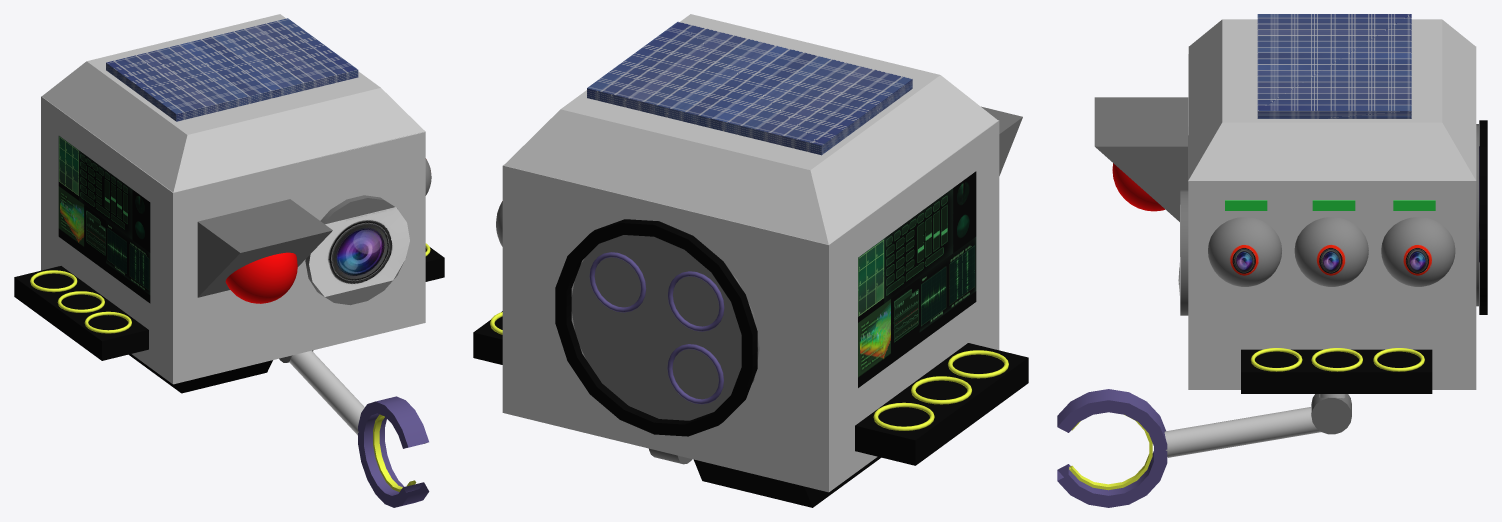
File: Player.FBX
3 views of the same model, side by side, from view 1: azimuth 30°, elevation 25°; view 2: azimuth 150°, elevation 25°; view 3: azimuth 270°, elevation 25° (orthographic). The views are drawn at different scales.
Parts seen in each view (by area): view 1: Box001, Box002, Box011, Plane002, Box004, Plane001, Box006, Tube002, Sphere001, Cylinder007, Cylinder008, Box003 (+2 smaller); view 2: Box001, Box002, Box011, Cylinder003, Plane002, Tube001, Box006, Box003, Box005, Torus002, Torus003, Torus004 (+4 smaller); view 3: Box001, Box002, Box011, Box004, Box005, Tube002, Sphere003, Sphere002, Sphere004, Cylinder007, Tube001, Cylinder006 (+8 smaller).
Boxes of the visible parts, x1=… form: Box001: x1=41, y1=96, x2=425, y2=384; Box002: x1=42, y1=14, x2=425, y2=192; Box011: x1=106, y1=18, x2=358, y2=121; Plane002: x1=58, y1=136, x2=150, y2=303; Box004: x1=197, y1=199, x2=332, y2=297; Plane001: x1=309, y1=207, x2=409, y2=296; Box006: x1=14, y1=266, x2=148, y2=360; Tube002: x1=358, y1=396, x2=429, y2=507; Sphere001: x1=225, y1=252, x2=297, y2=303; Cylinder007: x1=289, y1=350, x2=364, y2=435; Cylinder008: x1=305, y1=195, x2=404, y2=305; Box003: x1=129, y1=354, x2=272, y2=393; Box001: x1=502, y1=120, x2=999, y2=492; Box002: x1=504, y1=14, x2=997, y2=244; Box011: x1=587, y1=21, x2=912, y2=155; Cylinder003: x1=571, y1=235, x2=759, y2=420; Plane002: x1=858, y1=171, x2=976, y2=387; Tube001: x1=555, y1=219, x2=757, y2=436; Box006: x1=855, y1=343, x2=1028, y2=465; Box003: x1=694, y1=457, x2=880, y2=507; Box005: x1=473, y1=311, x2=502, y2=364; Torus002: x1=667, y1=271, x2=724, y2=331; Torus003: x1=589, y1=252, x2=646, y2=312; Torus004: x1=667, y1=344, x2=723, y2=404; Box001: x1=1188, y1=46, x2=1476, y2=389; Box002: x1=1188, y1=19, x2=1475, y2=180; Box011: x1=1257, y1=14, x2=1411, y2=118; Box004: x1=1094, y1=97, x2=1188, y2=221; Box005: x1=1241, y1=349, x2=1432, y2=393; Tube002: x1=1057, y1=389, x2=1167, y2=507; Sphere003: x1=1294, y1=217, x2=1368, y2=286; Sphere002: x1=1381, y1=217, x2=1455, y2=286; Sphere004: x1=1208, y1=217, x2=1281, y2=286; Cylinder007: x1=1164, y1=407, x2=1320, y2=457; Tube001: x1=1479, y1=120, x2=1487, y2=314; Cylinder006: x1=1311, y1=394, x2=1351, y2=434.
Bounding box in the file's own units: 110 × 115 × 110.
